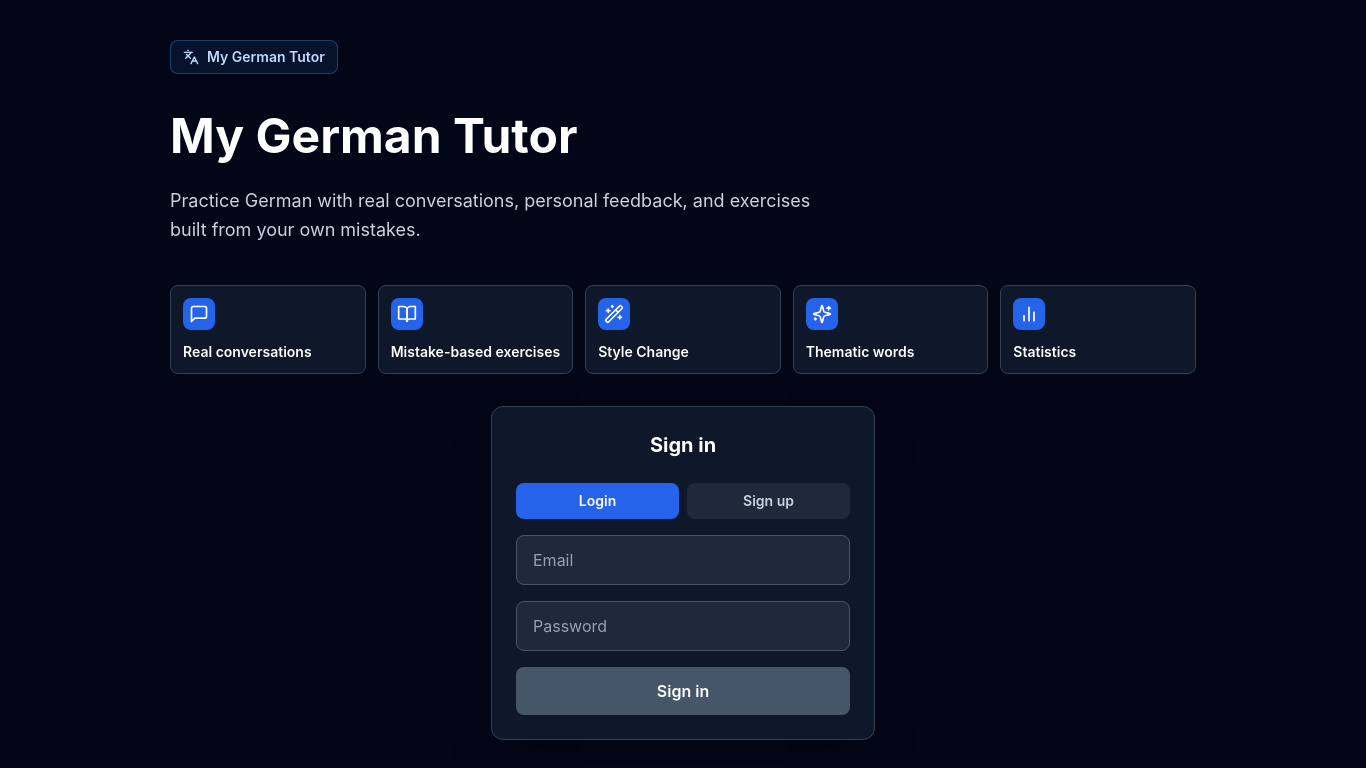
Test: HomePage › shows backend auth errors
In the field with placeholder "Email": coordinates (683, 560) [516,535,850,585], type "learner@example.com"
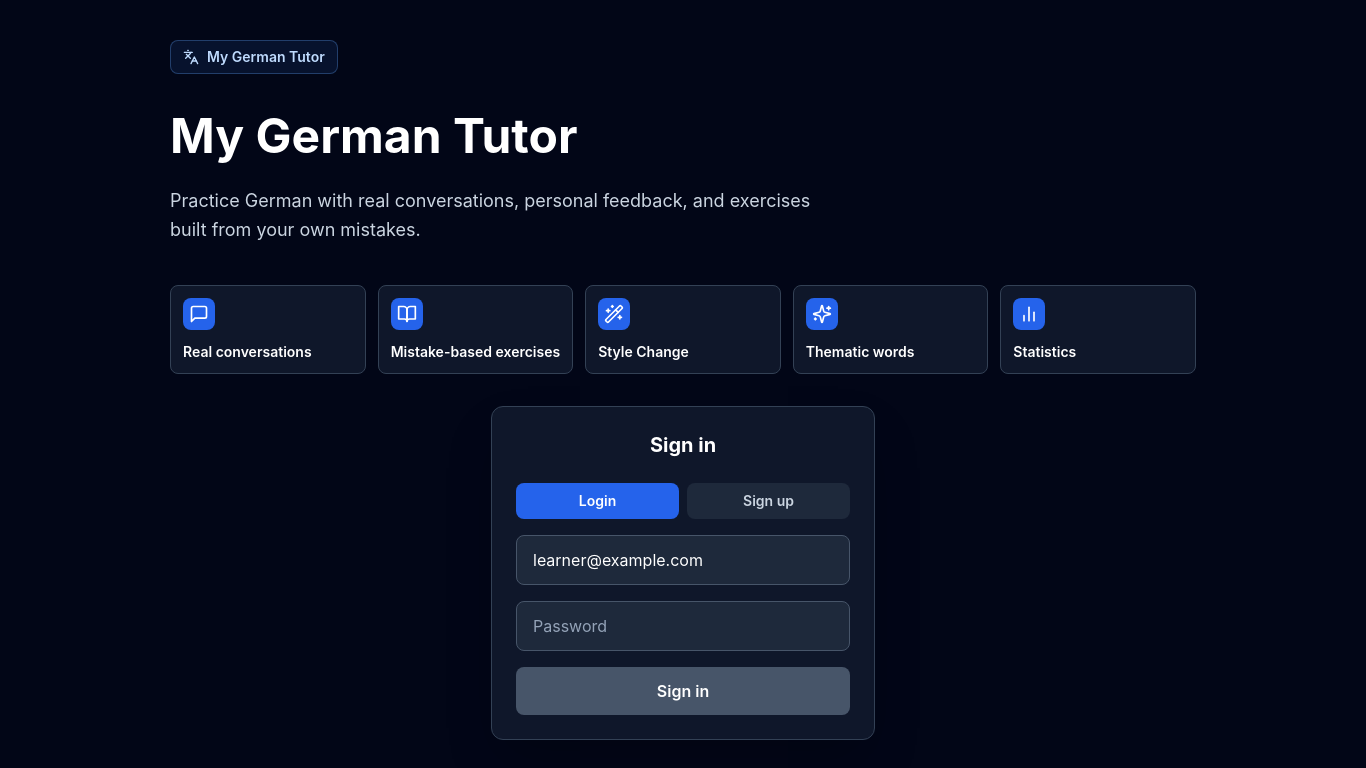
In the password field with placeholder "Password": coordinates (683, 626) [516,601,850,651], type "wrong-password"
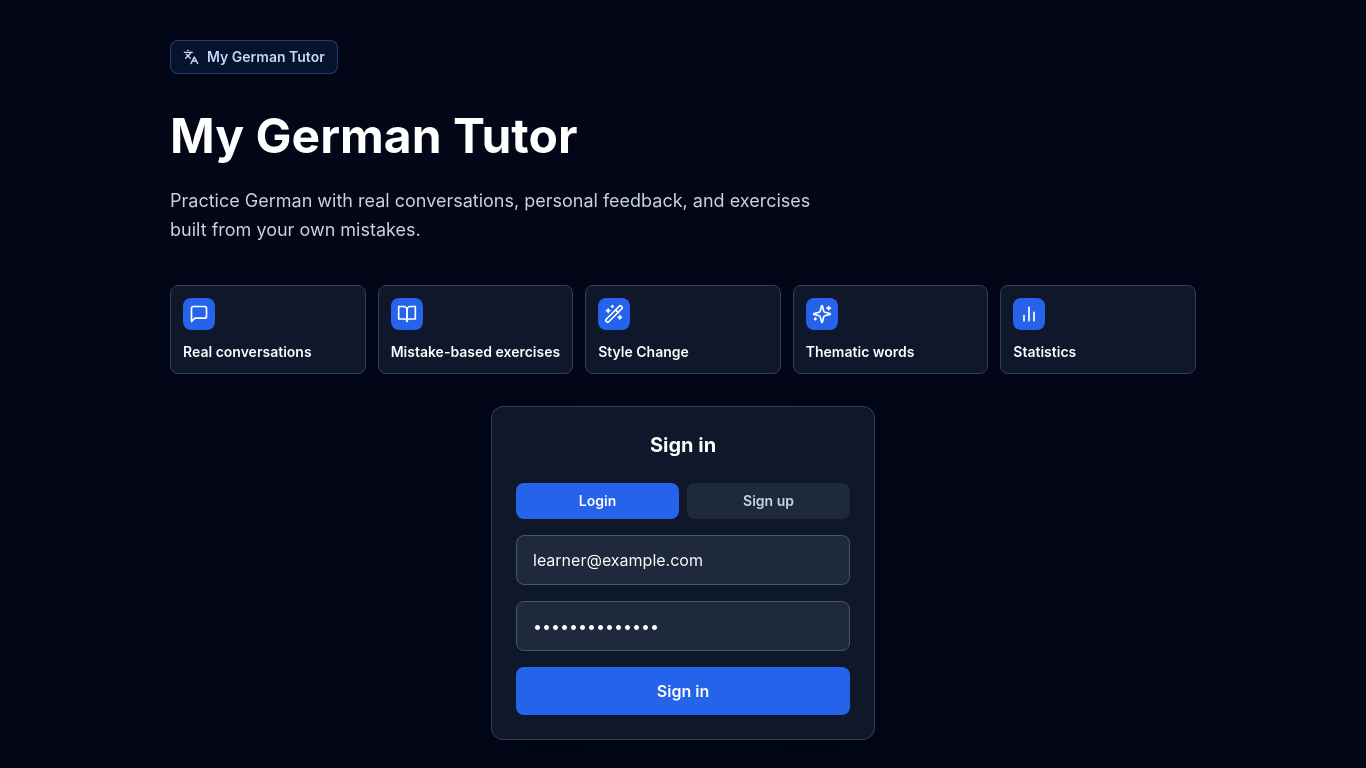
Click the button "Sign in": coordinates (683, 691) [516,667,850,715]
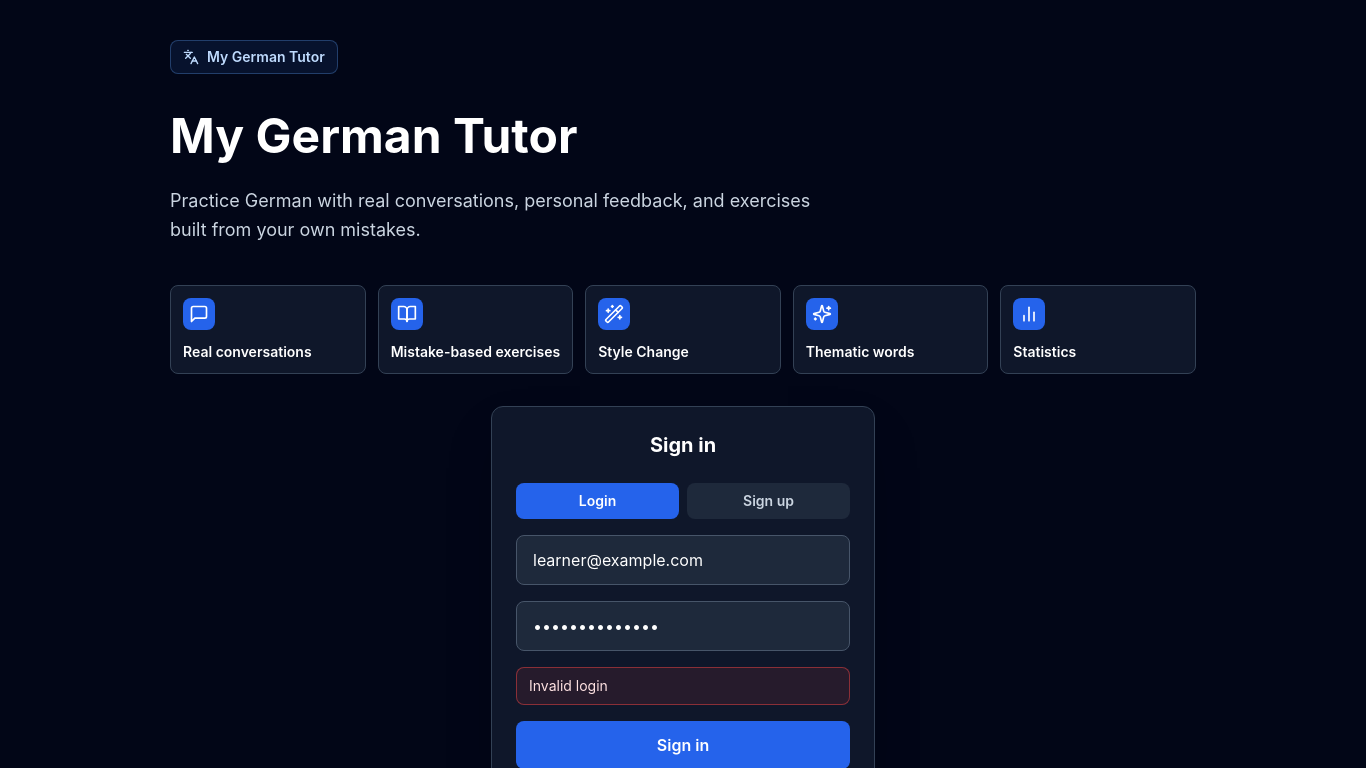
Now the text "Invalid login" is shown, box [516,667,850,705]
